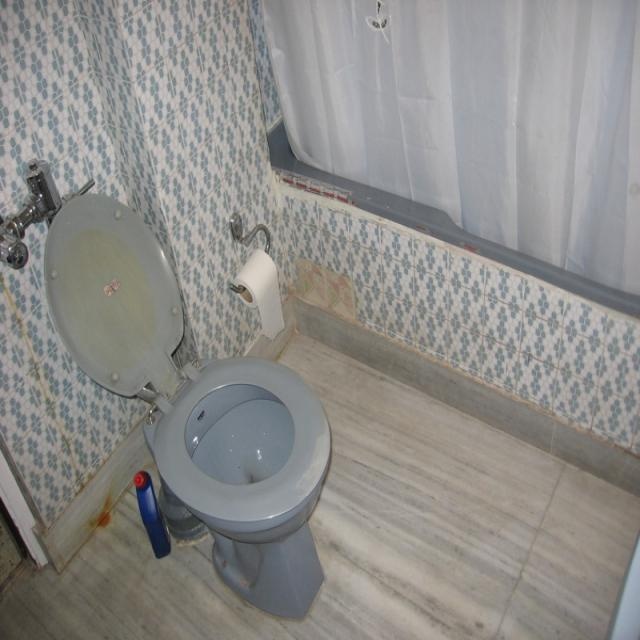dirty_floor: (1, 2, 638, 574), (3, 321, 637, 638), (41, 186, 337, 620), (272, 180, 638, 457), (142, 353, 335, 619), (290, 255, 359, 322)
